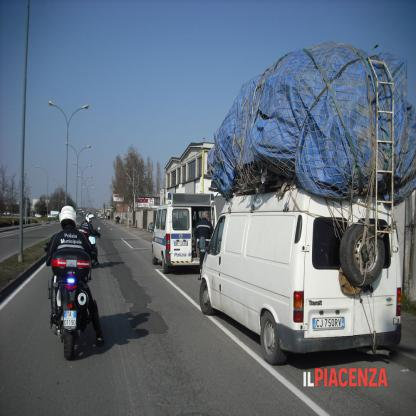overloaded-truck: (201, 22, 416, 215)
